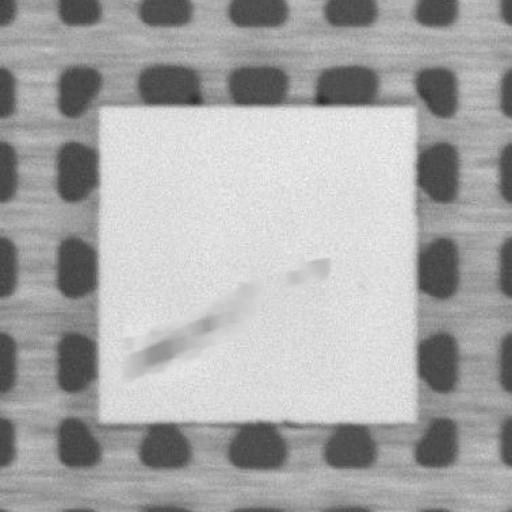DIE_INK: (111, 256, 337, 394)
